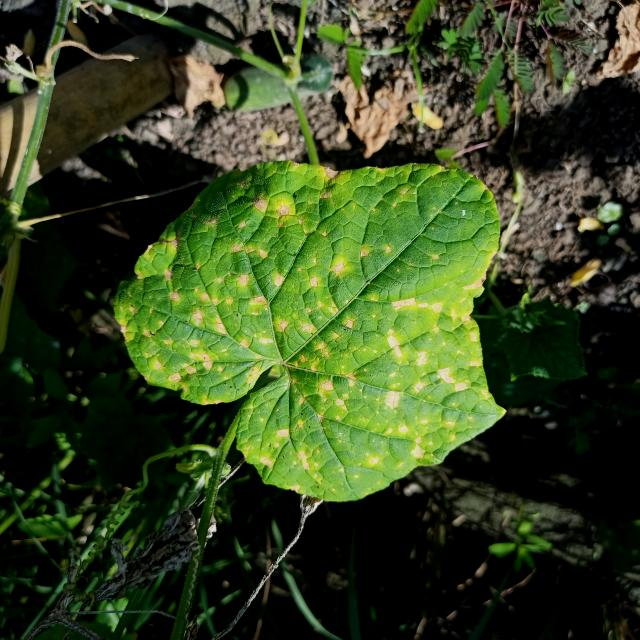disease_cucumber: (120, 170, 504, 492)
